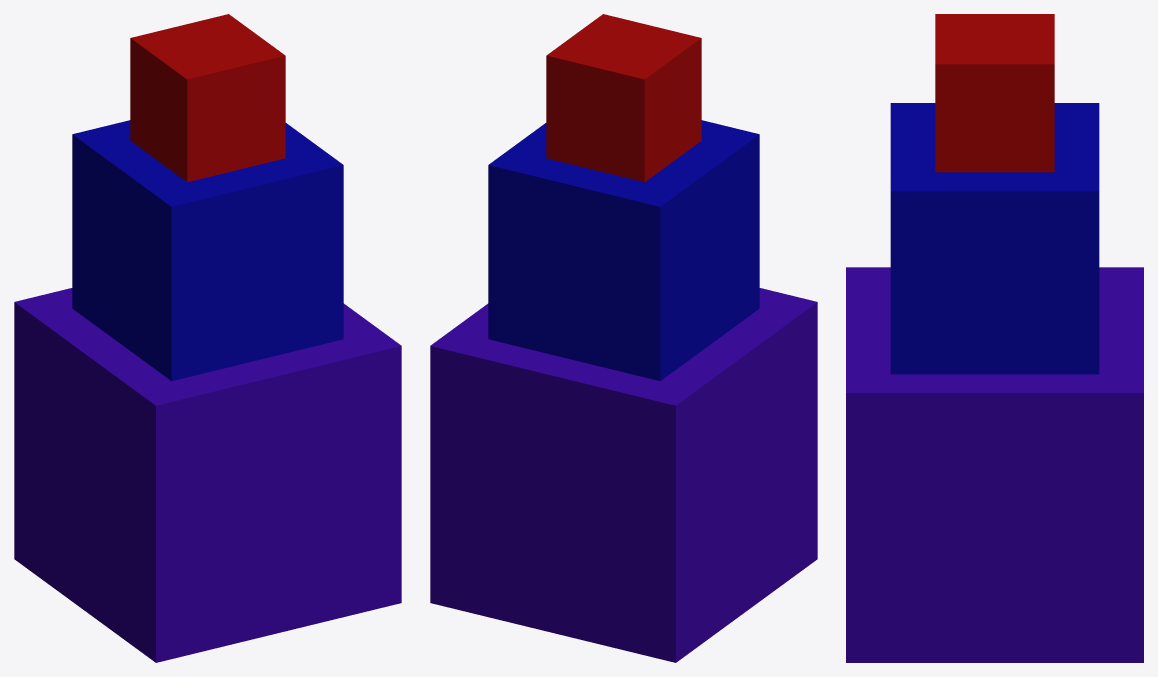
Rendered from testcubes.obj.
3 renders of one model, left to right at view 1: azimuth 30°, elevation 25°; view 2: azimuth 150°, elevation 25°; view 3: azimuth 270°, elevation 25°, orthographic. The views are drawn at different scales.
Visible parts, largest first — view 1: Cube_Cube.005, Cube.001_Cube.004, Cube.002_Cube.003; view 2: Cube_Cube.005, Cube.001_Cube.004, Cube.002_Cube.003; view 3: Cube_Cube.005, Cube.001_Cube.004, Cube.002_Cube.003.
Part boxes in pixels (bbox=[...]): Cube_Cube.005: bbox=[14, 288, 401, 662]; Cube.001_Cube.004: bbox=[72, 120, 343, 380]; Cube.002_Cube.003: bbox=[130, 14, 285, 182]; Cube_Cube.005: bbox=[430, 288, 817, 662]; Cube.001_Cube.004: bbox=[488, 120, 759, 380]; Cube.002_Cube.003: bbox=[546, 14, 701, 182]; Cube_Cube.005: bbox=[846, 267, 1143, 662]; Cube.001_Cube.004: bbox=[890, 103, 1099, 374]; Cube.002_Cube.003: bbox=[935, 14, 1054, 172].
Bounding box in the file's own units: 2 × 4.16 × 2.
